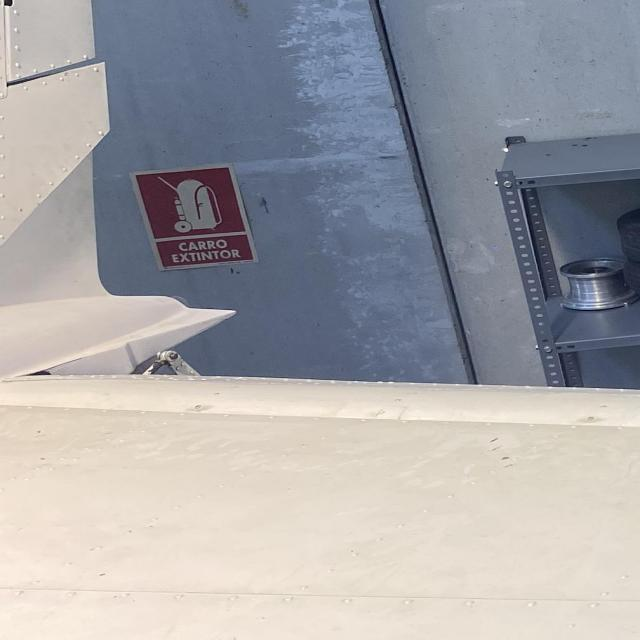Paint-off: (481, 433, 510, 448), (493, 452, 513, 465), (488, 443, 507, 456), (93, 569, 111, 582), (502, 463, 515, 470)
